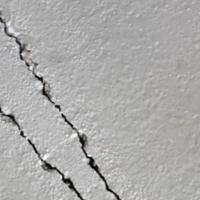crack: (0, 1, 136, 199)
